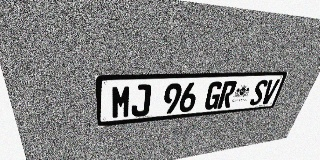6: (178, 82, 199, 113)
9: (162, 83, 183, 114)
G: (203, 81, 224, 110)
J: (131, 84, 152, 117)
M: (111, 85, 132, 119)
R: (217, 81, 238, 109)
S: (249, 80, 269, 106)
V: (260, 79, 280, 105)
